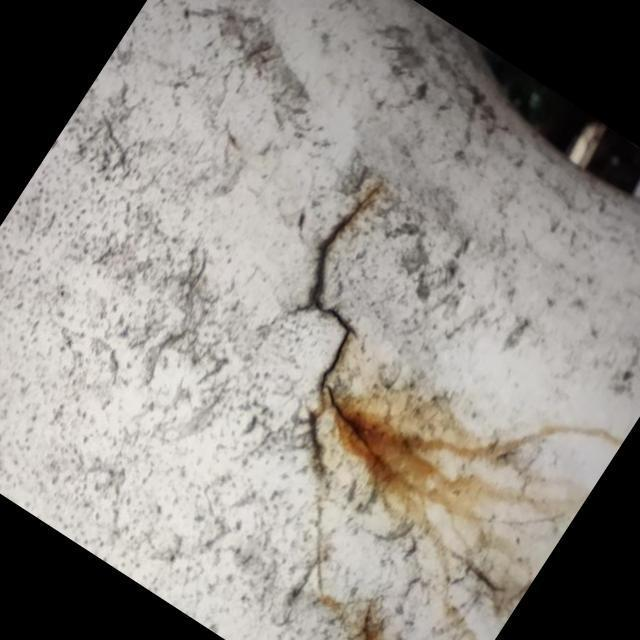defect: (281, 181, 390, 467)
